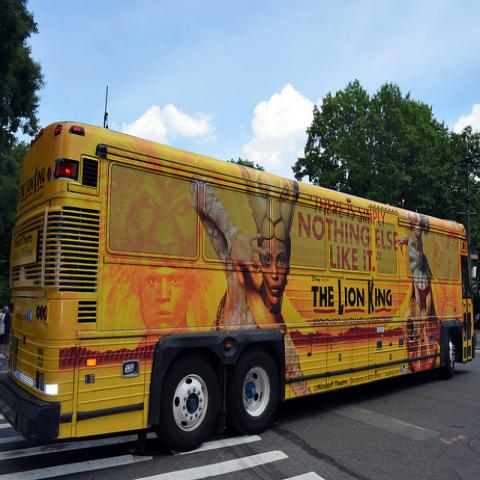bus: (8, 122, 480, 446)
